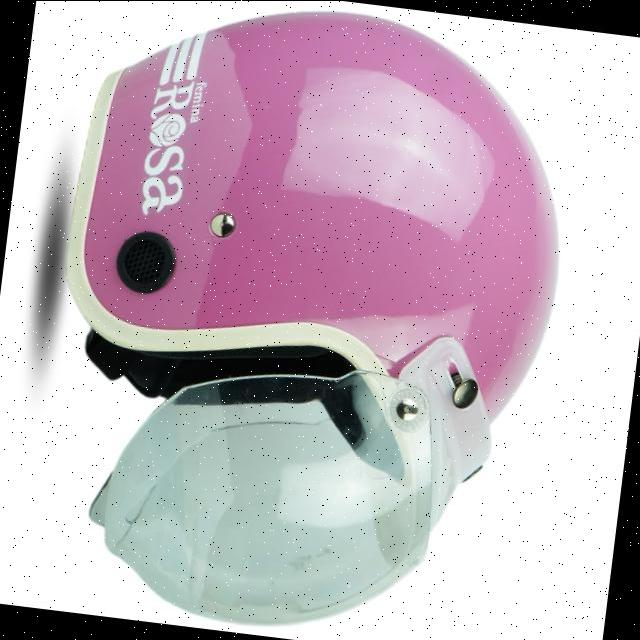Helm: (25, 0, 595, 640)
